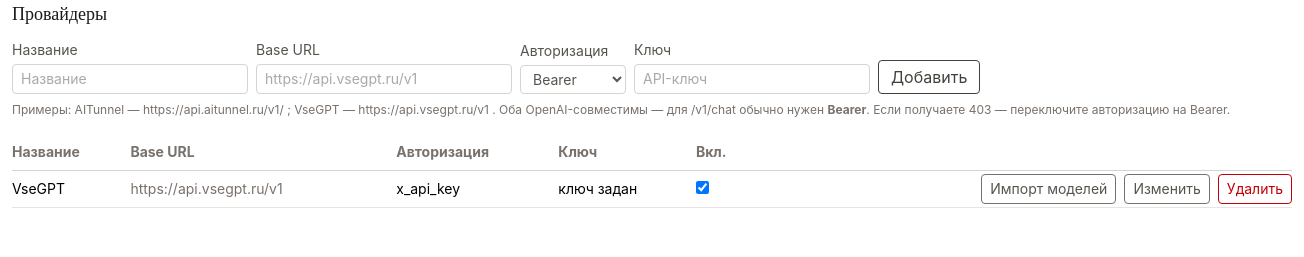
Test: ProvidersSection › imports models and shows count
The width and height of the screenshot is (1304, 257).
Expected: the text "VseGPT" is shown, left=12, top=170, right=130, bottom=208
Click the button "Импорт моделей".
click(1049, 189)  # box left=981, top=174, right=1116, bottom=204
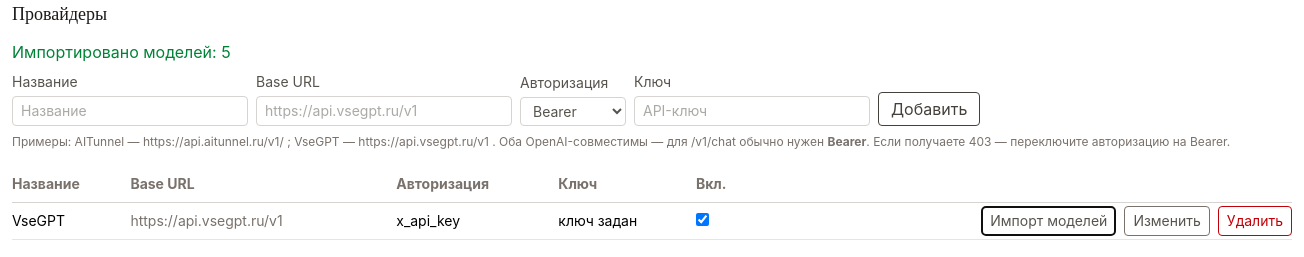
Now the text "Импортировано моделей: 5" is shown, box left=12, top=42, right=231, bottom=62
